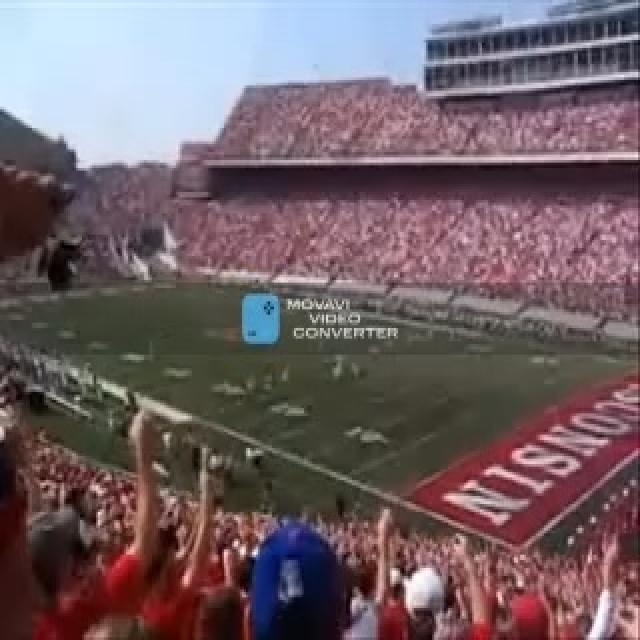non-voilence: (438, 373, 638, 531)
